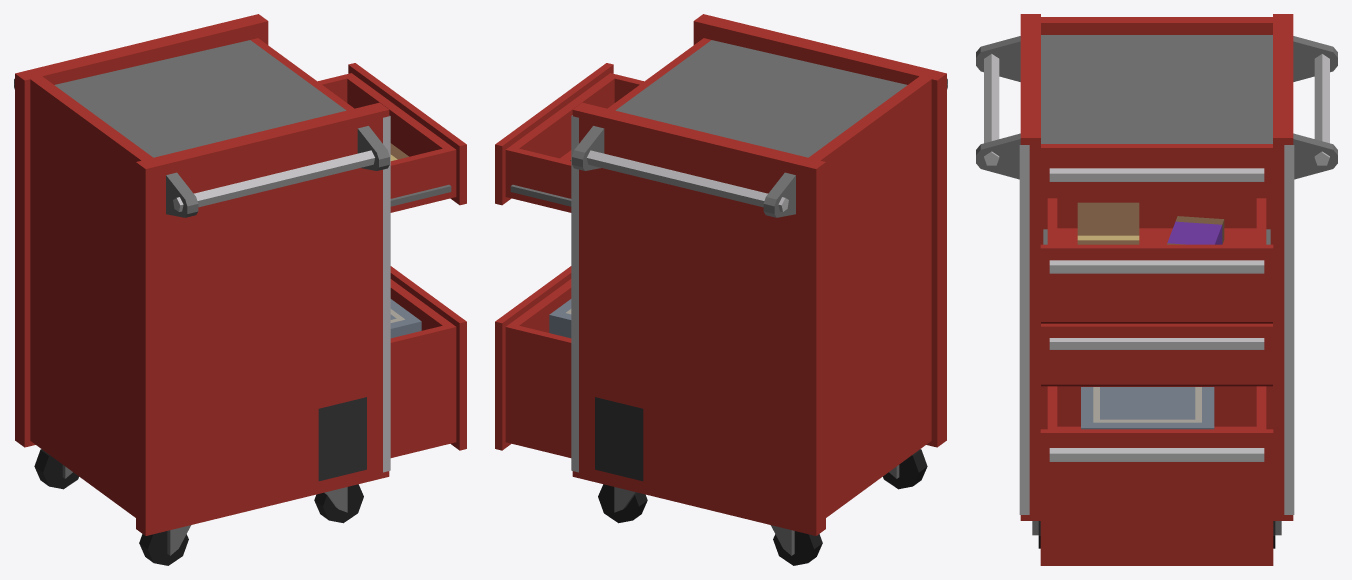
Rendered from SM_ToolBox_02.glb.
The picture shows the model from 3 angles, left to right: view 1: azimuth 30°, elevation 25°; view 2: azimuth 150°, elevation 25°; view 3: azimuth 270°, elevation 25°; orthographic projection. The views are drawn at different scales.
Parts seen in each view (by area): view 1: SM_ToolBox_02; view 2: SM_ToolBox_02; view 3: SM_ToolBox_02.
Part boxes in pixels (x1,y1,x2,y2): SM_ToolBox_02: (14,14,466,565); SM_ToolBox_02: (495,14,947,565); SM_ToolBox_02: (976,14,1337,565).
Bounding box in the file's own units: 0.7395 × 0.8664 × 0.6626.
1 material, 1 textured.
